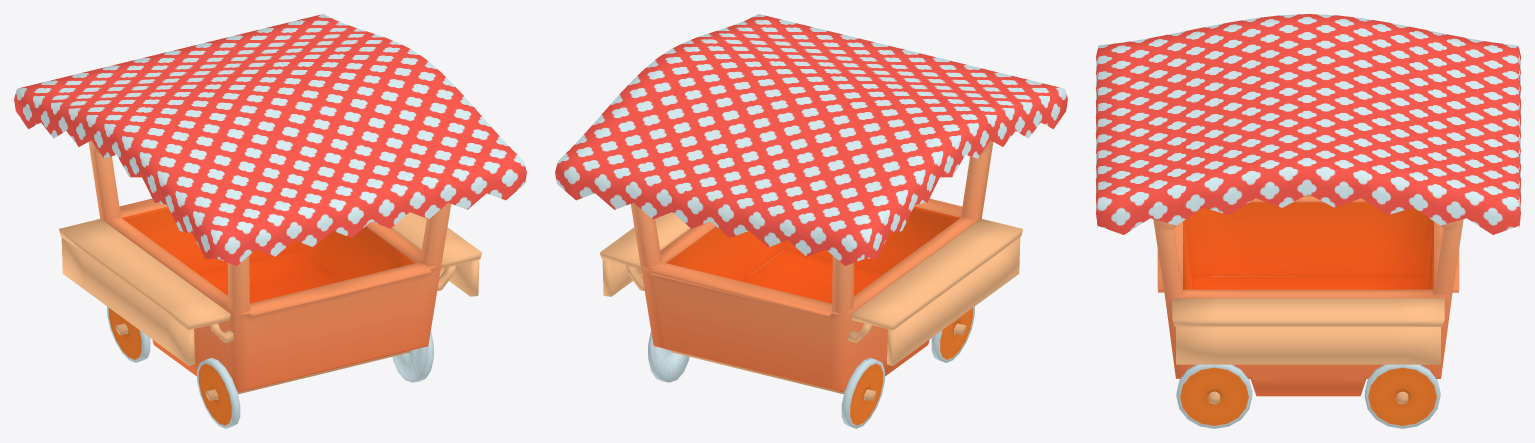
3 views of the same model, side by side, from view 1: azimuth 30°, elevation 25°; view 2: azimuth 150°, elevation 25°; view 3: azimuth 270°, elevation 25° (orthographic). The views are drawn at different scales.
Parts seen in each view (by area): view 1: Canopy, Cart, Serving, Wheels; view 2: Canopy, Cart, Serving, Wheels; view 3: Canopy, Cart, Serving, Wheels.
Boxes of the visible parts, box(x1,y1,x2,y2) form: Canopy: box(14, 14, 526, 265); Cart: box(88, 140, 451, 392); Serving: box(59, 212, 482, 366); Wheels: box(107, 306, 433, 428); Canopy: box(555, 14, 1067, 265); Cart: box(630, 140, 993, 392); Serving: box(599, 212, 1022, 366); Wheels: box(648, 306, 974, 428); Canopy: box(1096, 14, 1520, 234); Cart: box(1153, 194, 1463, 396); Serving: box(1172, 298, 1444, 364); Wheels: box(1176, 364, 1440, 428).
Bounding box in the file's own units: 1.76 × 1.5 × 2.
Materials: 4 (4 with a texture image).
